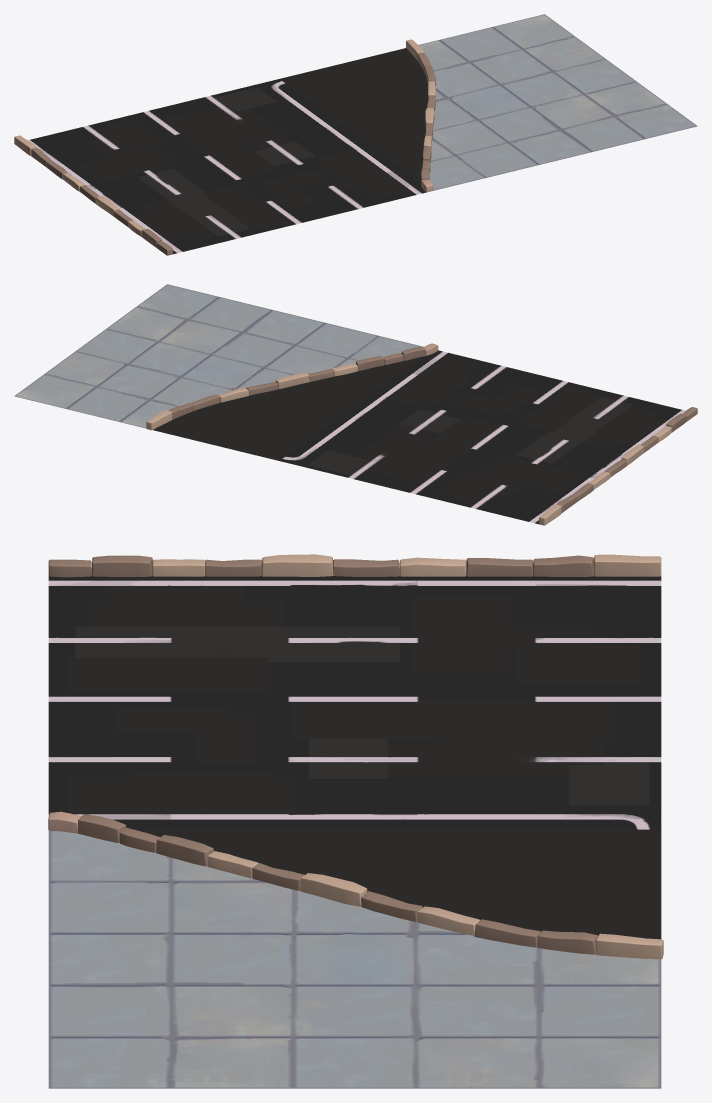
File: CityRoad_tile_busStopExtension.fbx
The picture shows the model from 3 angles, top to bottom: view 1: azimuth 30°, elevation 25°; view 2: azimuth 150°, elevation 25°; view 3: azimuth 270°, elevation 25°; orthographic projection. The views are drawn at different scales.
Parts seen in each view (by area): view 1: CityRoad_tile_busStopExtension_mesh; view 2: CityRoad_tile_busStopExtension_mesh; view 3: CityRoad_tile_busStopExtension_mesh.
Boxes of the visible parts, x1=… form: CityRoad_tile_busStopExtension_mesh: x1=14, y1=14, x2=697, y2=255; CityRoad_tile_busStopExtension_mesh: x1=14, y1=284, x2=697, y2=525; CityRoad_tile_busStopExtension_mesh: x1=48, y1=554, x2=663, y2=1088.
Bounding box in the file's own units: 2006 × 28.55 × 1004.
